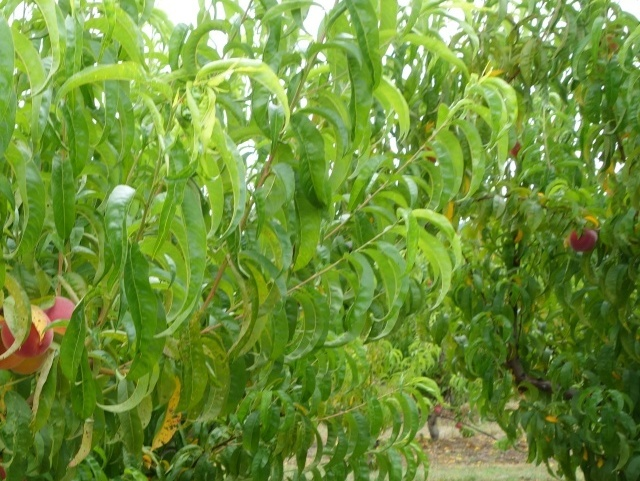peach: (1, 304, 56, 359), (33, 286, 79, 333), (4, 339, 51, 379), (566, 223, 601, 258)
